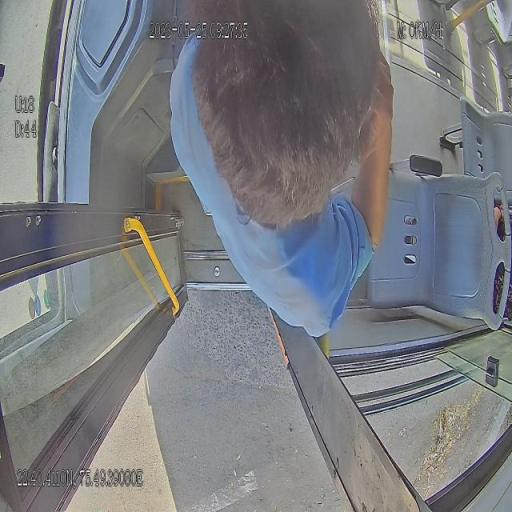persona: (168, 1, 510, 339), (169, 1, 395, 339)
